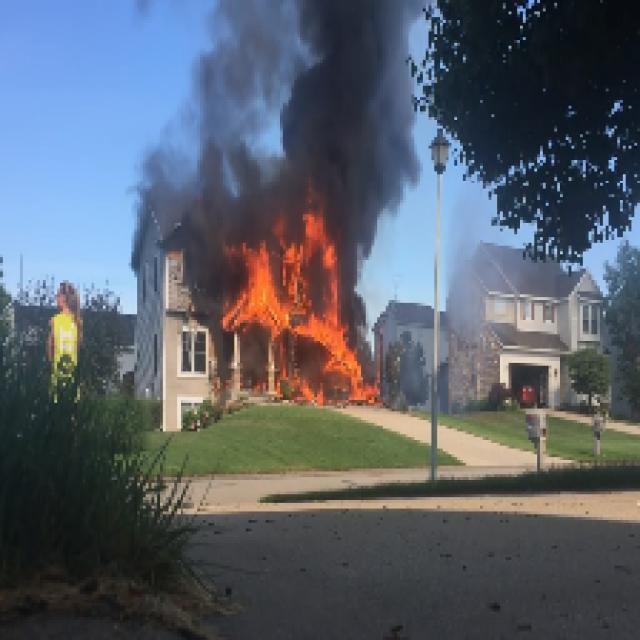Fire: (220, 246, 303, 331), (303, 212, 343, 372)
Smoke: (140, 2, 289, 198), (288, 2, 421, 178), (446, 194, 514, 346)
